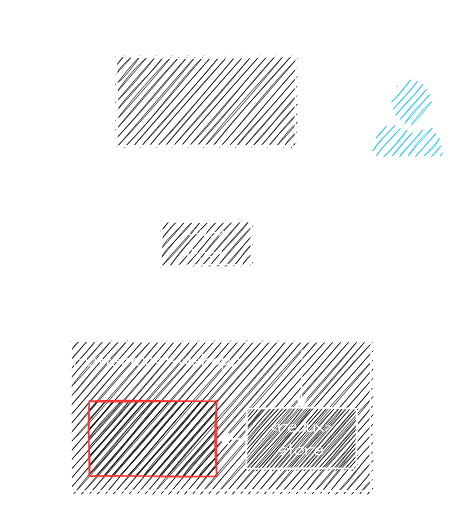
Some shapes in this 468 by 518 pixel diagram are drawn without their labels. Here are the shapes that lost their labels. From the top down, the centre of each, then its label:
At [205,100]: "mattermost-server".
At [152,438]: "plugin-unreads".
